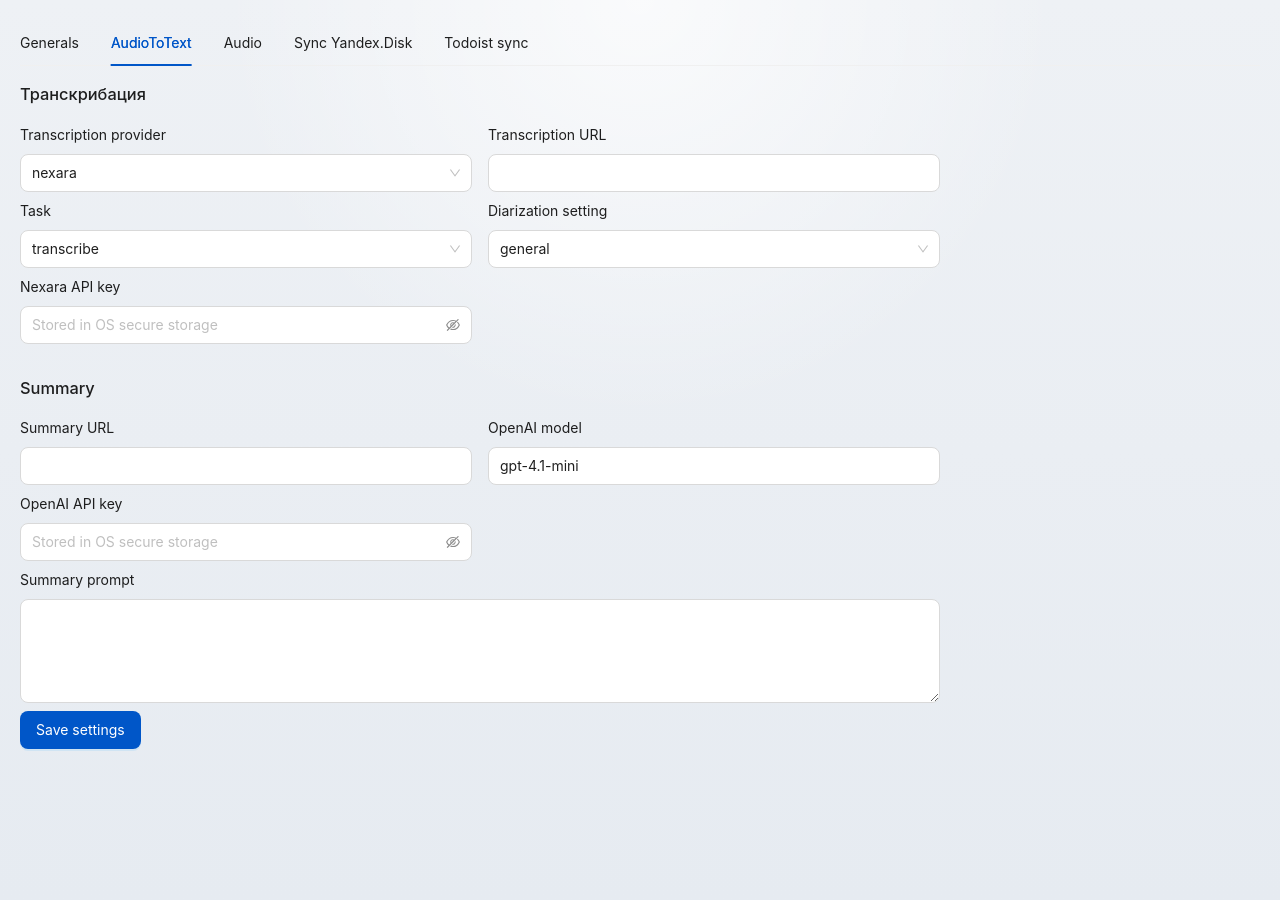
Scenario: App settings window › marks api keys as unchanged when they are empty
Click the button "Save settings".
click(80, 730)  # box [20,711,141,749]
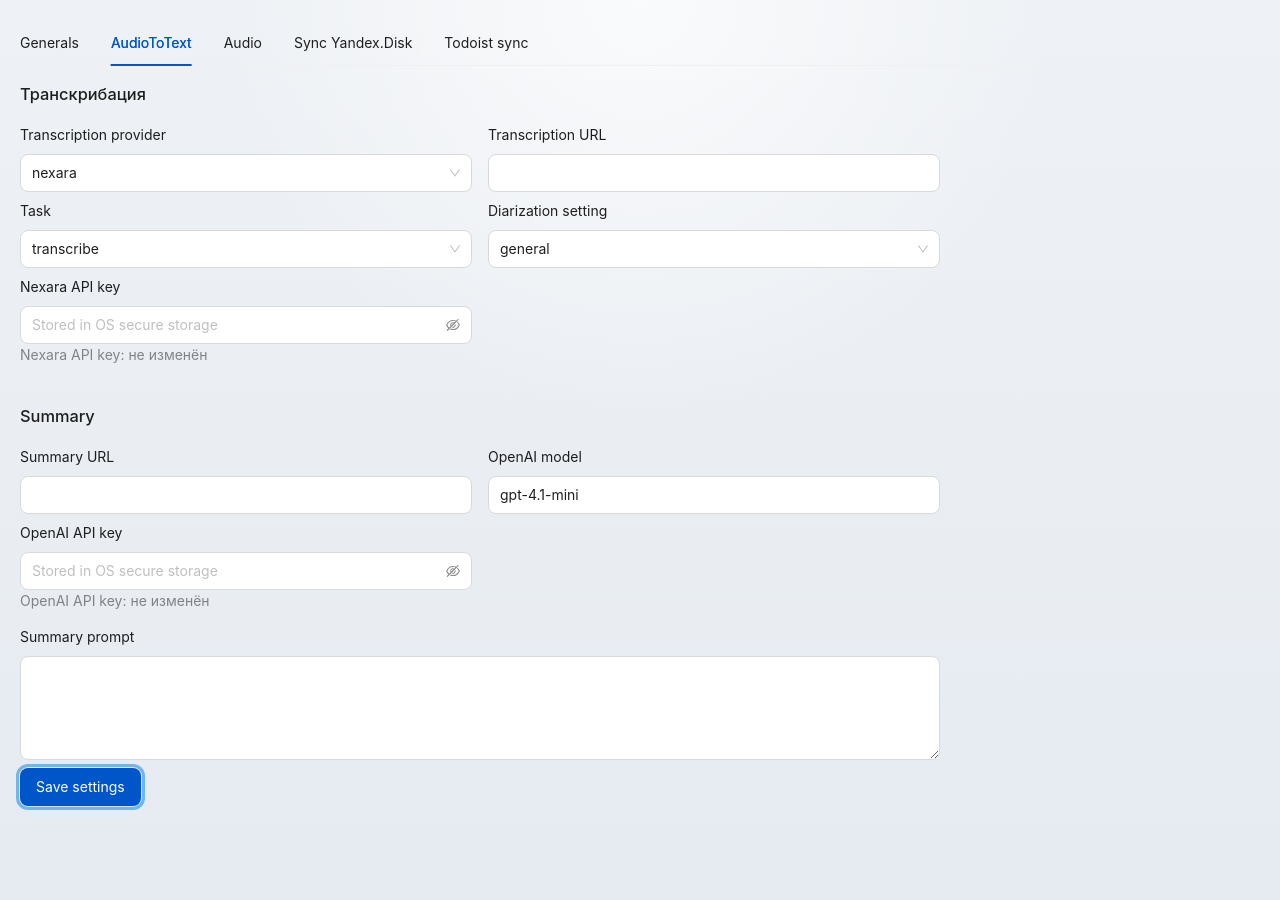
expect the text "Nexara API key: не изменён" is shown: met, box [20,346,208,363]
expect the text "OpenAI API key: не изменён" is shown: met, box [20,592,210,609]
